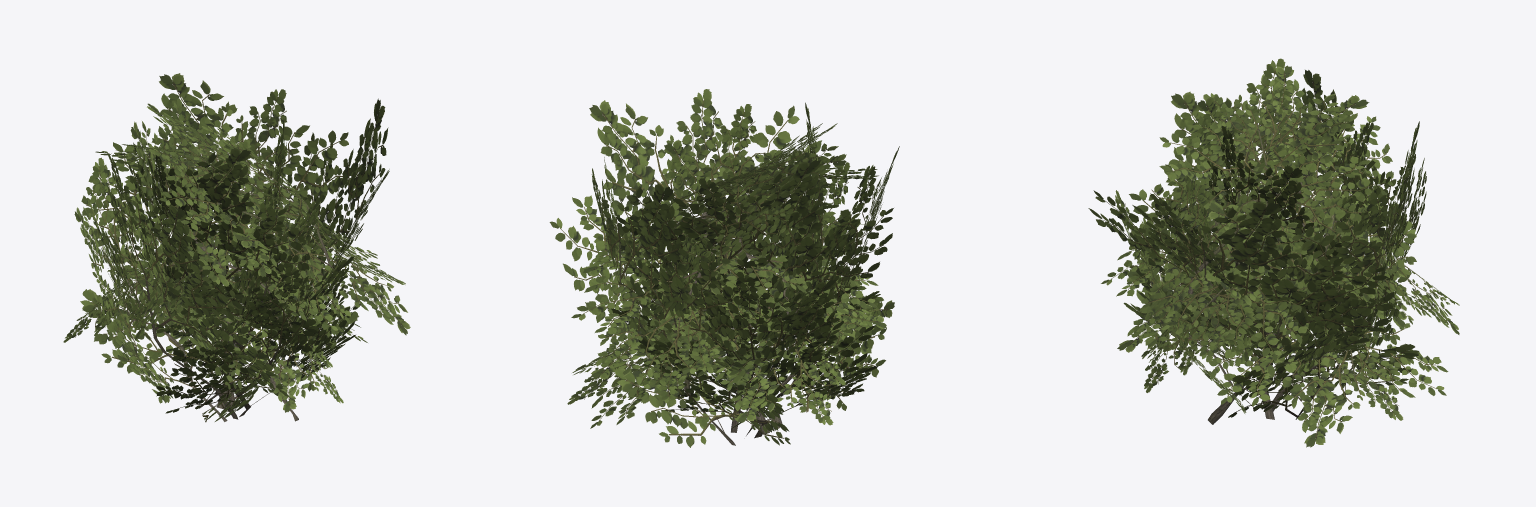
The model's file is Bush-02.gltf.
3 renders of one model, left to right at view 1: azimuth 30°, elevation 25°; view 2: azimuth 150°, elevation 25°; view 3: azimuth 270°, elevation 25°, orthographic. The views are drawn at different scales.
Parts seen in each view (by area): view 1: Bush-02; view 2: Bush-02; view 3: Bush-02.
Part boxes in pixels (box(x1,y1,x2,y2)): Bush-02: box(63, 73, 410, 422); Bush-02: box(549, 89, 899, 447); Bush-02: box(1088, 58, 1459, 447).
Bounding box in the file's own units: 1.19 × 0.8779 × 1.27.
Materials: 2 (2 with a texture image).
